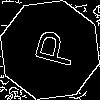P: (25, 25, 78, 69)
